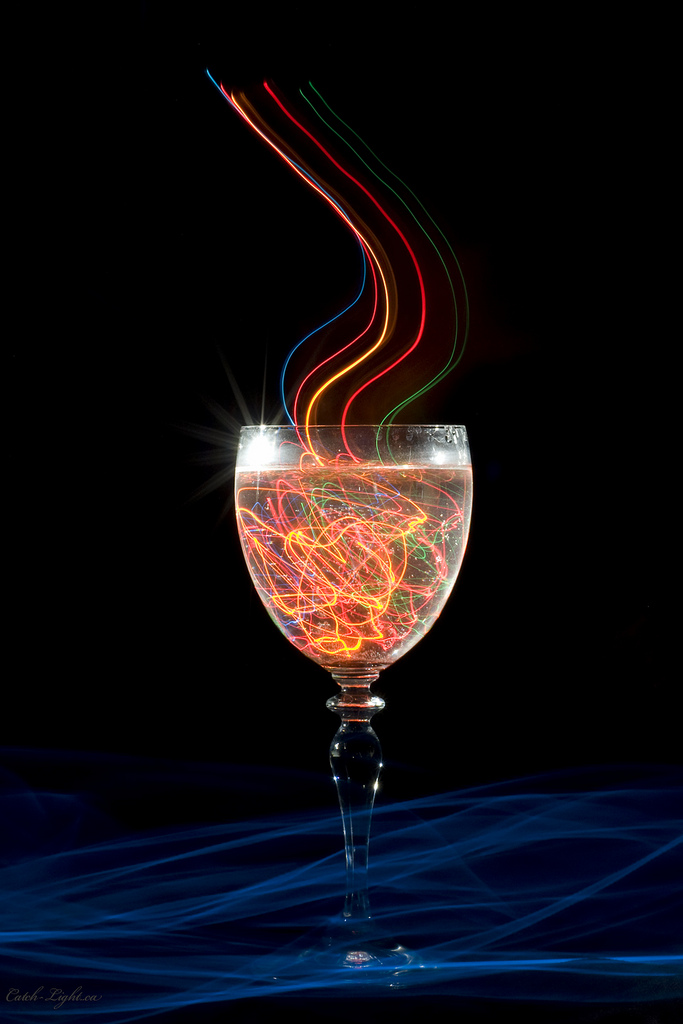glass of water: (220, 412, 480, 976)
